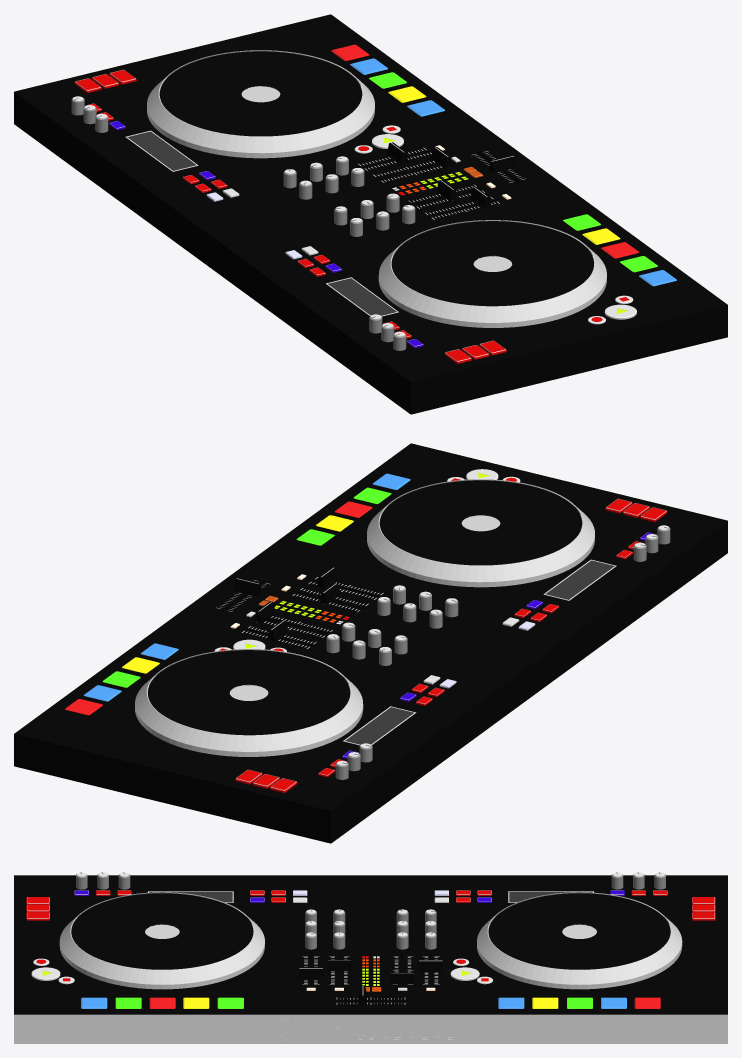
3 views of the same model, one above another, from view 1: azimuth 30°, elevation 25°; view 2: azimuth 150°, elevation 25°; view 3: azimuth 270°, elevation 25° (orthographic). The views are drawn at different scales.
Visible parts, largest first — view 1: Cube.002, Disk 1.002, Disk 1.001, Disk.001, Disk, Plane.002, Plane.001, Disk 1.003, Disk 1; view 2: Cube.002, Disk 1.001, Disk 1.002, Disk, Disk.001, Plane.001, Plane.002, Disk 1, Disk 1.003; view 3: Cube.002, Plane, Disk 1.001, Disk 1.002, Disk, Disk.001, Text.008, Disk 1, Disk 1.003, Cube.007, Cube.011, Cube.001 (+16 smaller).
Part boxes in pixels (box(x1,y1,x2,y2)): Cube.002: box(14, 14, 727, 414); Disk 1.002: box(159, 51, 362, 136); Disk 1.001: box(391, 221, 593, 306); Disk.001: box(147, 50, 374, 157); Disk: box(378, 220, 606, 327); Plane.002: box(127, 131, 195, 170); Plane.001: box(328, 278, 396, 315); Disk 1.003: box(147, 86, 374, 158); Disk 1: box(379, 255, 606, 327); Cube.002: box(14, 443, 727, 843); Disk 1.001: box(379, 480, 582, 565); Disk 1.002: box(148, 650, 350, 735); Disk: box(367, 479, 594, 586); Disk.001: box(135, 649, 363, 756); Plane.001: box(546, 560, 614, 599); Plane.002: box(345, 707, 413, 744); Disk 1: box(367, 515, 594, 587); Disk 1.003: box(135, 684, 362, 756); Cube.002: box(14, 875, 727, 1014); Plane: box(14, 1014, 727, 1043); Disk 1.001: box(71, 893, 253, 969); Disk 1.002: box(488, 893, 670, 969); Disk: box(59, 892, 264, 988); Disk.001: box(477, 892, 682, 988); Text.008: box(235, 1017, 453, 1040); Disk 1: box(59, 924, 264, 989); Disk 1.003: box(477, 924, 682, 989); Cube.007: box(303, 956, 439, 984); Cube.011: box(299, 967, 323, 979); Cube.001: box(390, 972, 414, 984).
Bounding box in the file's own units: 2 × 0.3071 × 4.34.
